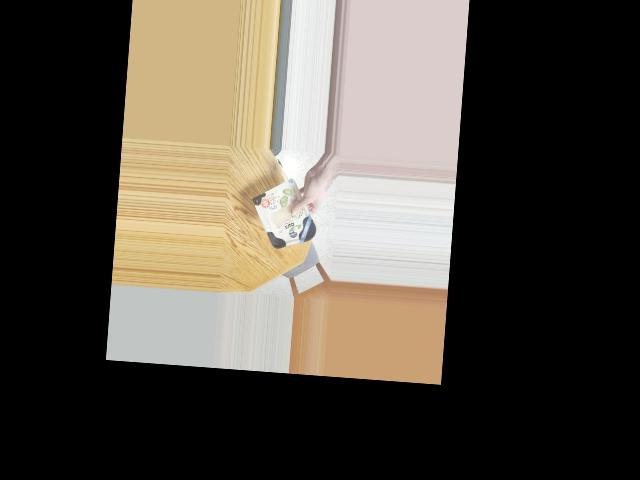cheese: (253, 184, 318, 250)
